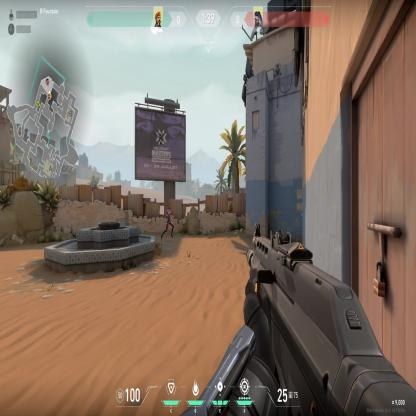enemy: (160, 206, 174, 242)
